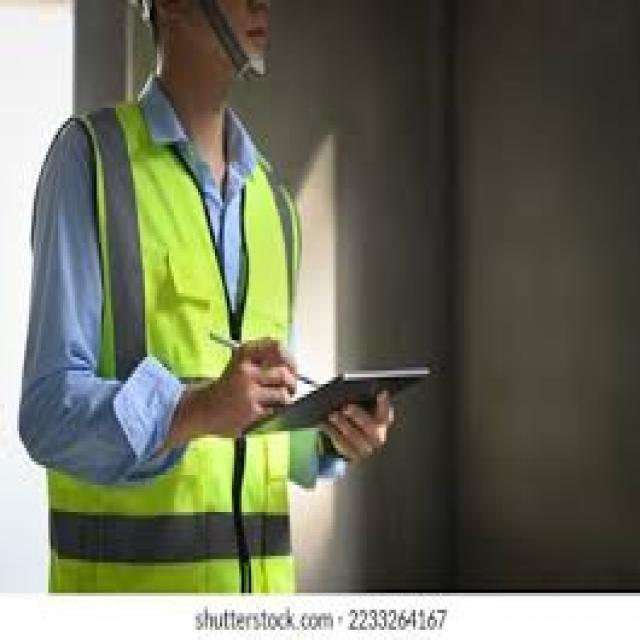Reflective-Jacket: (29, 98, 324, 593)
